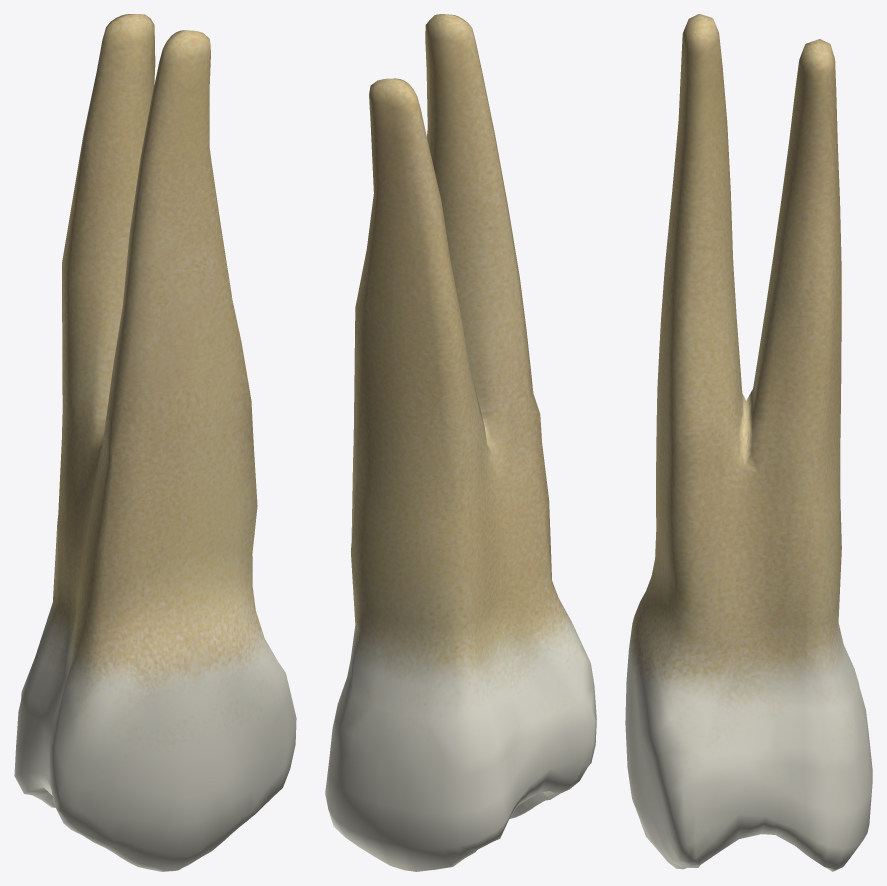
Rendered from Human Teeth Upper First Premolar.gltf.
The picture shows the model from 3 angles, left to right: view 1: azimuth 30°, elevation 25°; view 2: azimuth 150°, elevation 25°; view 3: azimuth 270°, elevation 25°; orthographic projection. The views are drawn at different scales.
Visible parts, largest first — view 1: Human_Teeth_Upper_First_Premolar_Geo; view 2: Human_Teeth_Upper_First_Premolar_Geo; view 3: Human_Teeth_Upper_First_Premolar_Geo.
Part boxes in pixels (x1,y1,x2,y2): Human_Teeth_Upper_First_Premolar_Geo: (14,14,296,871); Human_Teeth_Upper_First_Premolar_Geo: (325,14,596,871); Human_Teeth_Upper_First_Premolar_Geo: (625,14,872,871).
Bounding box in the file's own units: 1.7 × 5.62 × 1.47.
1 material, 1 textured.
